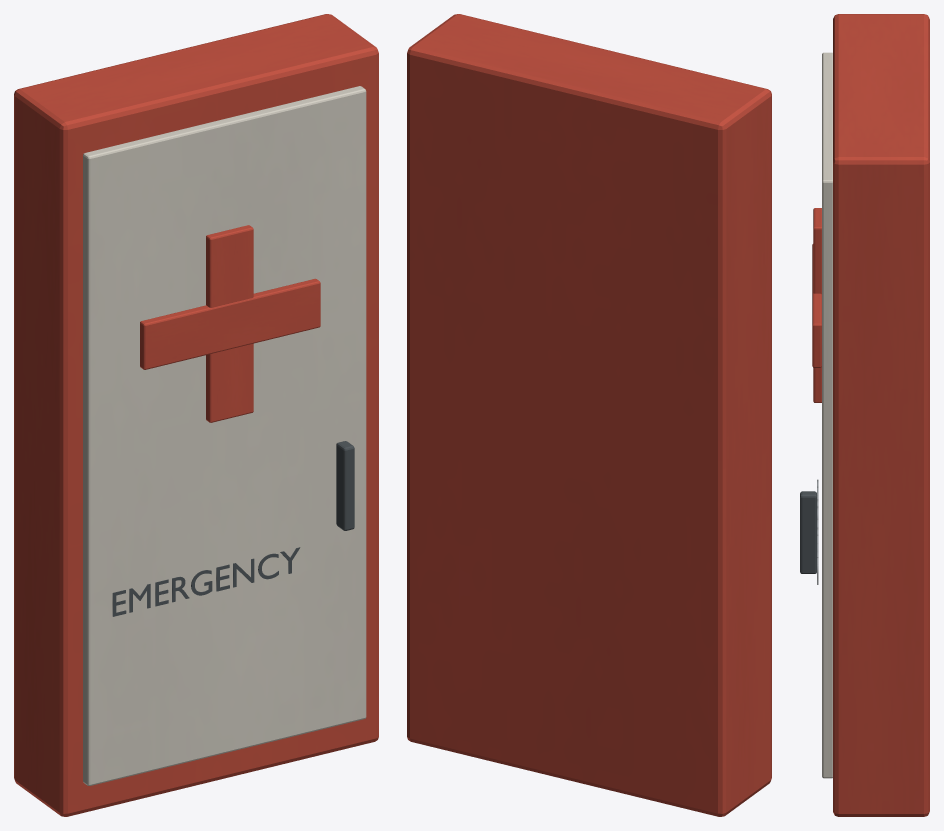
Rendered from emergency_cabinet.glb.
The picture shows the model from 3 angles, left to right: view 1: azimuth 30°, elevation 25°; view 2: azimuth 150°, elevation 25°; view 3: azimuth 270°, elevation 25°; orthographic projection. The views are drawn at different scales.
Parts seen in each view (by area): view 1: DoorInset, Cabinet, CrossHorizontal, CrossVertical, LABEL_EMERGENCY, DoorHandle; view 2: Cabinet; view 3: Cabinet, DoorInset, DoorHandle, CrossVertical, CrossHorizontal.
Boxes of the visible parts, x1,y1,x2,y2 form: DoorInset: (83,86,366,785); Cabinet: (14,14,378,816); CrossHorizontal: (140,278,320,369); CrossVertical: (206,225,253,422); LABEL_EMERGENCY: (112,547,300,616); DoorHandle: (336,441,354,530); Cabinet: (407,14,771,816); Cabinet: (833,14,929,816); DoorInset: (822,52,832,778); DoorHandle: (800,491,816,573); CrossVertical: (813,208,821,402); CrossHorizontal: (812,244,821,367).
Size of the model in its own units: 0.72 by 1.5 by 0.2675.
3 materials, 2 textured.
